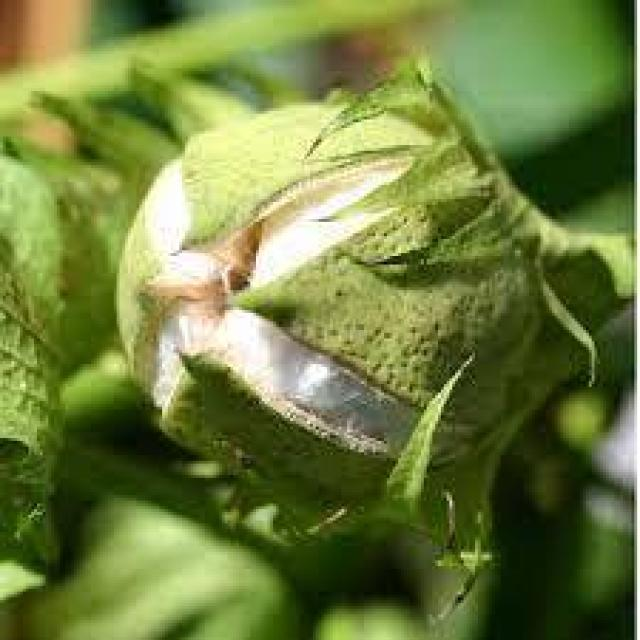Split Cotton Boll: (127, 80, 528, 516)
